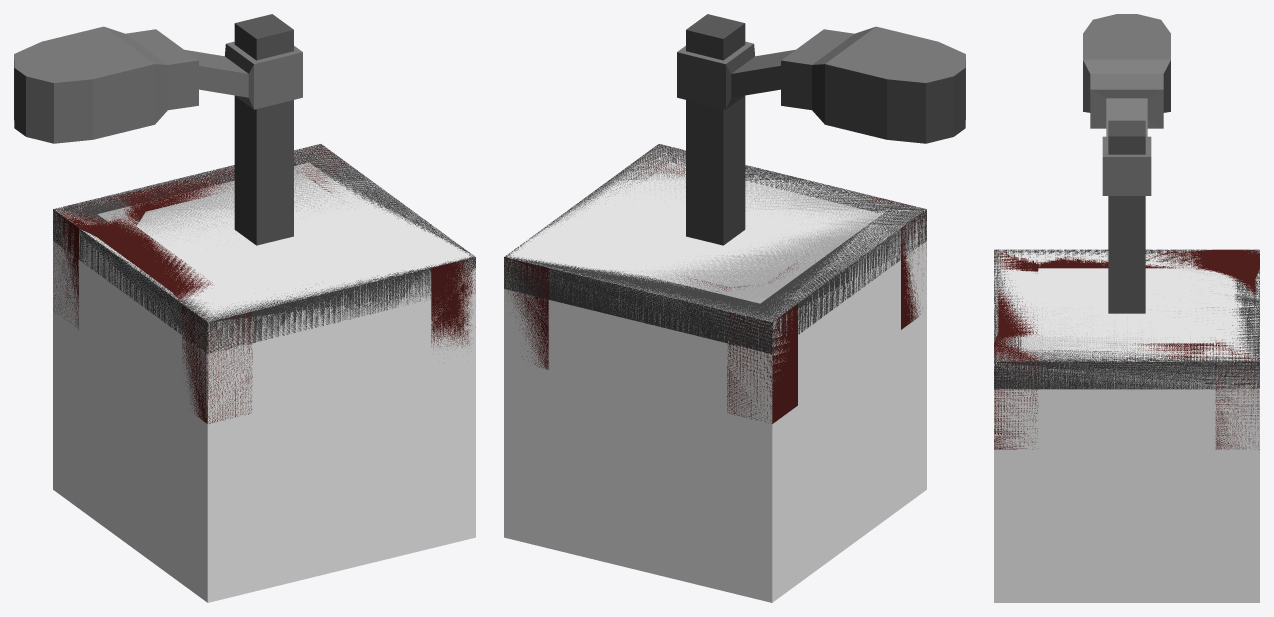
Rendered from Modular2.fbx.
3 renders of one model, left to right at view 1: azimuth 30°, elevation 25°; view 2: azimuth 150°, elevation 25°; view 3: azimuth 270°, elevation 25°, orthographic. The views are drawn at different scales.
Visible parts, largest first — view 1: Glass, Streetlight, Square, Scafold; view 2: Glass, Square, Streetlight, Scafold; view 3: Glass, Streetlight, Square, Scafold.
Part boxes in pixels (x1,y1,x2,y2): Glass: (53,144,475,602); Streetlight: (14,14,302,245); Square: (53,144,475,353); Scafold: (53,144,475,423); Glass: (504,144,926,602); Square: (504,144,926,353); Streetlight: (677,14,965,245); Scafold: (504,144,926,423); Glass: (994,249,1259,602); Streetlight: (1083,14,1170,313); Square: (994,249,1259,389); Scafold: (994,249,1259,449).
Bounding box in the file's own units: 113 × 143 × 80.
